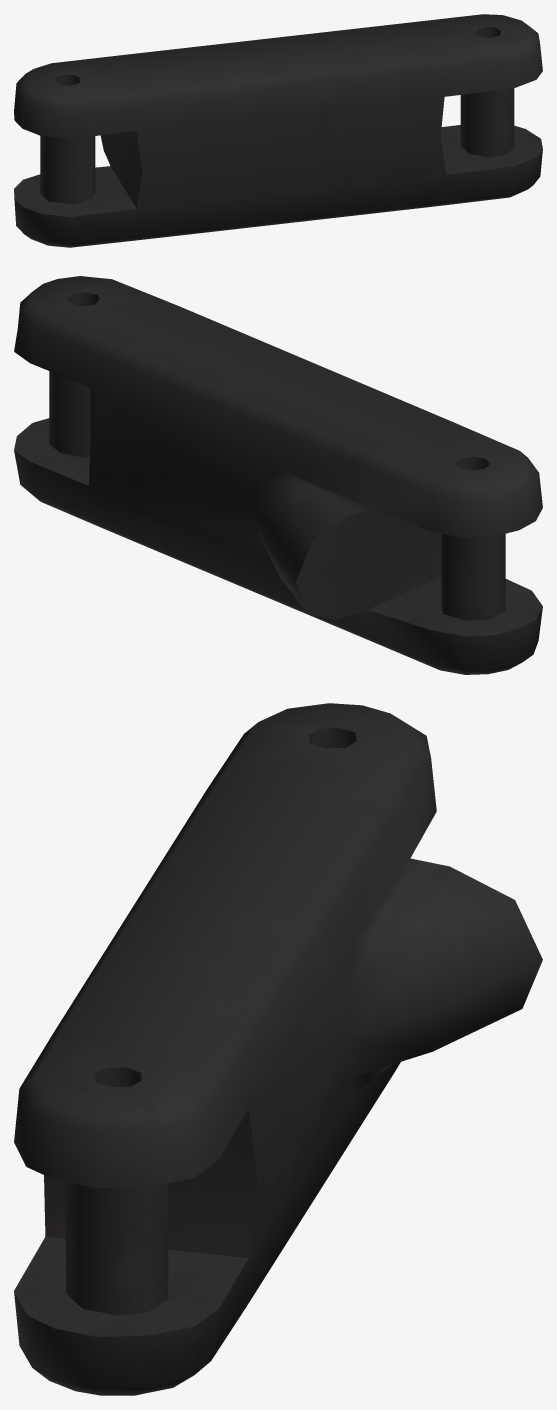
The model's file is right_gripper_4.dae.
3 renders of one model, top to bottom at view 1: azimuth 30°, elevation 25°; view 2: azimuth 150°, elevation 25°; view 3: azimuth 270°, elevation 25°, orthographic. The views are drawn at different scales.
Parts seen in each view (by area): view 1: right_gripper_4; view 2: right_gripper_4; view 3: right_gripper_4.
Boxes of the visible parts, x1,y1,x2,y2 form: right_gripper_4: (14,14,542,247); right_gripper_4: (14,276,542,674); right_gripper_4: (14,703,542,1395).
Size of the model in its own units: 0.0485 by 0.0254 by 0.0151.
